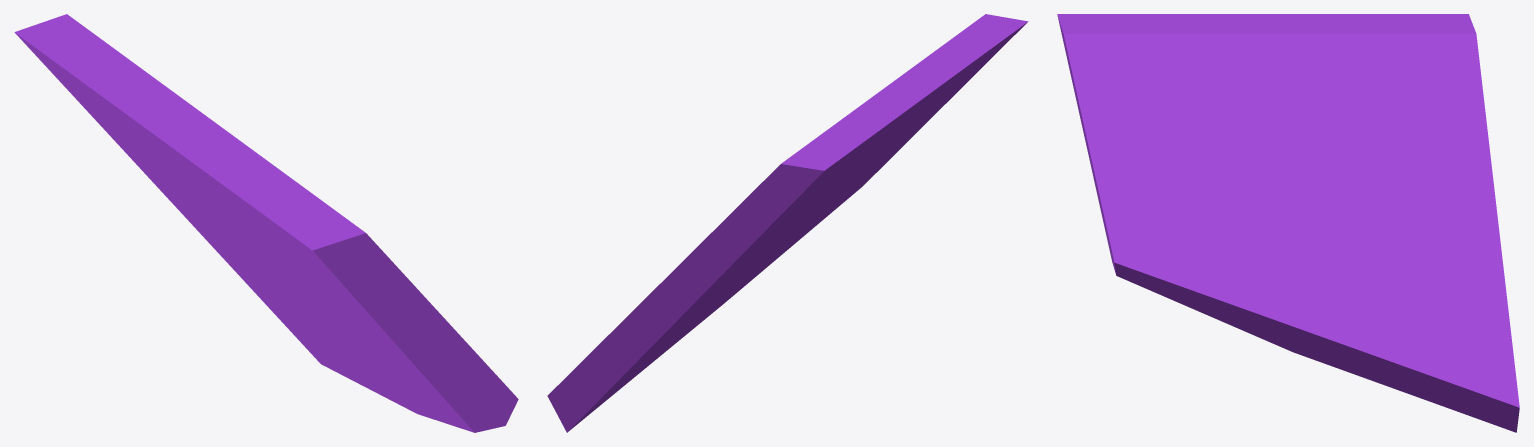
The model's file is Window_120_0_chunks.fbx.
3 views of the same model, side by side, from view 1: azimuth 30°, elevation 25°; view 2: azimuth 150°, elevation 25°; view 3: azimuth 270°, elevation 25° (orthographic). The views are drawn at different scales.
Visible parts, largest first — view 1: Window_120_0_1, Window_120_0_2, Window_120_0_0, Window_120_0_5, Window_120_0_3, Window_120_0_6, Window_120_0_8, Window_120_0_4, Window_120_0_9, Window_120_0_7; view 2: Window_120_0_2, Window_120_0_3, Window_120_0_1, Window_120_0_0, Window_120_0_5, Window_120_0_9, Window_120_0_6, Window_120_0_8, Window_120_0_4; view 3: Window_120_0_1, Window_120_0_3, Window_120_0_2, Window_120_0_9, Window_120_0_5, Window_120_0_8, Window_120_0_6, Window_120_0_7.
Boxes of the visible parts, box(x1,y1,x2,y2) form: Window_120_0_1: box(165, 118, 518, 431); Window_120_0_2: box(14, 14, 196, 202); Window_120_0_0: box(161, 139, 480, 432); Window_120_0_5: box(103, 74, 276, 264); Window_120_0_3: box(167, 197, 314, 305); Window_120_0_6: box(266, 305, 361, 366); Window_120_0_8: box(312, 305, 466, 430); Window_120_0_4: box(98, 93, 288, 277); Window_120_0_9: box(294, 335, 404, 407); Window_120_0_7: box(358, 354, 433, 419); Window_120_0_2: box(666, 123, 880, 300); Window_120_0_3: box(583, 205, 818, 385); Window_120_0_1: box(878, 14, 1028, 160); Window_120_0_0: box(799, 91, 932, 225); Window_120_0_5: box(831, 93, 924, 192); Window_120_0_9: box(547, 311, 709, 432); Window_120_0_6: box(574, 236, 786, 409); Window_120_0_8: box(754, 201, 844, 270); Window_120_0_4: box(789, 125, 886, 221); Window_120_0_1: box(1057, 14, 1283, 276); Window_120_0_3: box(1283, 145, 1513, 351); Window_120_0_2: box(1352, 14, 1497, 217); Window_120_0_9: box(1272, 288, 1519, 432); Window_120_0_5: box(1265, 14, 1368, 191); Window_120_0_8: box(1119, 209, 1315, 330); Window_120_0_6: box(1311, 227, 1514, 365); Window_120_0_7: box(1242, 330, 1319, 361).
Bounding box in the file's own units: 556 × 636 × 877.
